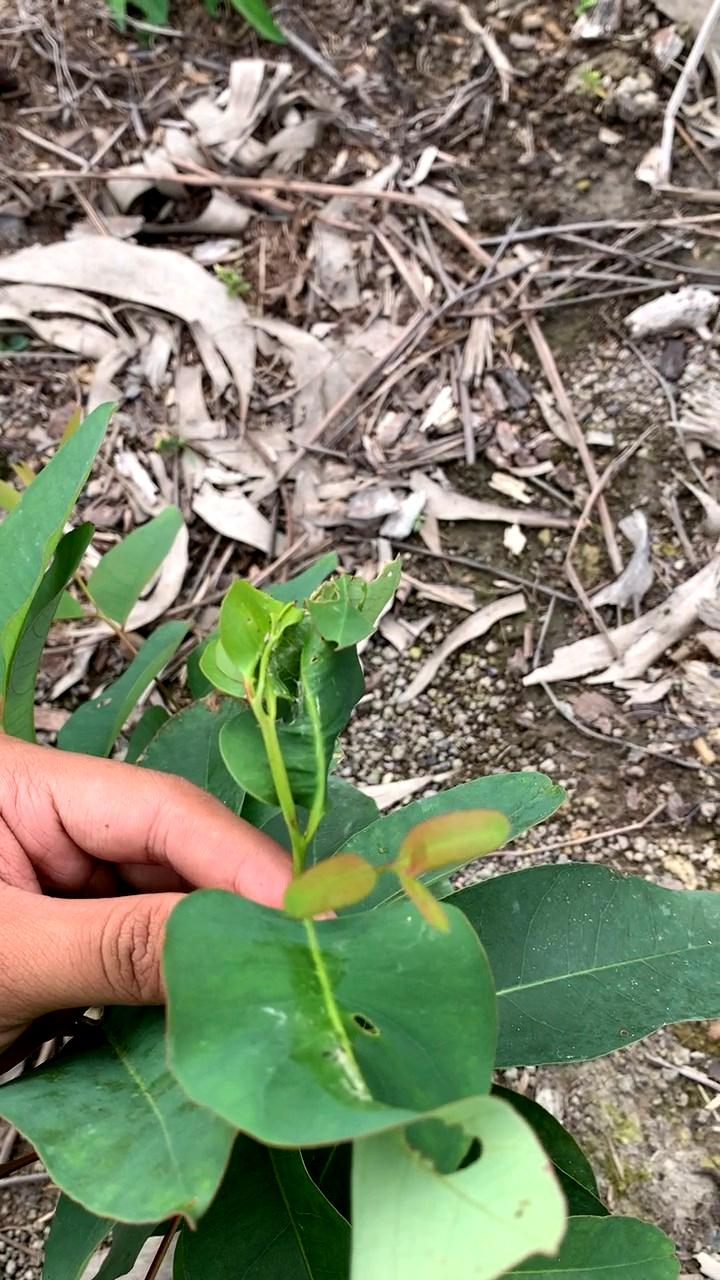Leaf Roller - Leaf: (198, 573, 417, 823)
